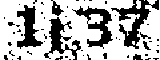1: (13, 6, 45, 51)
3: (84, 5, 114, 52)
7: (120, 4, 152, 52)
i: (49, 1, 70, 57)
